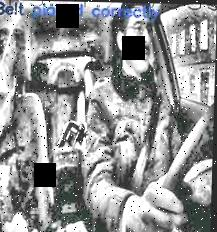seatbelt: (128, 87, 161, 195)
